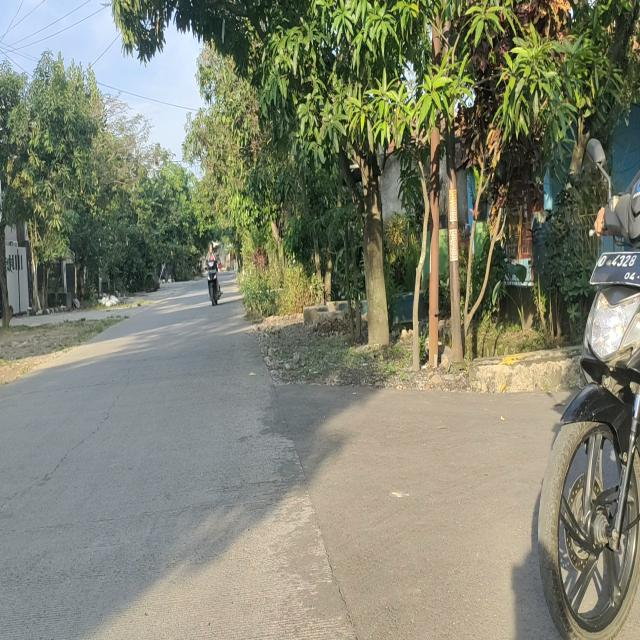no-helmet: (207, 239, 214, 256)
